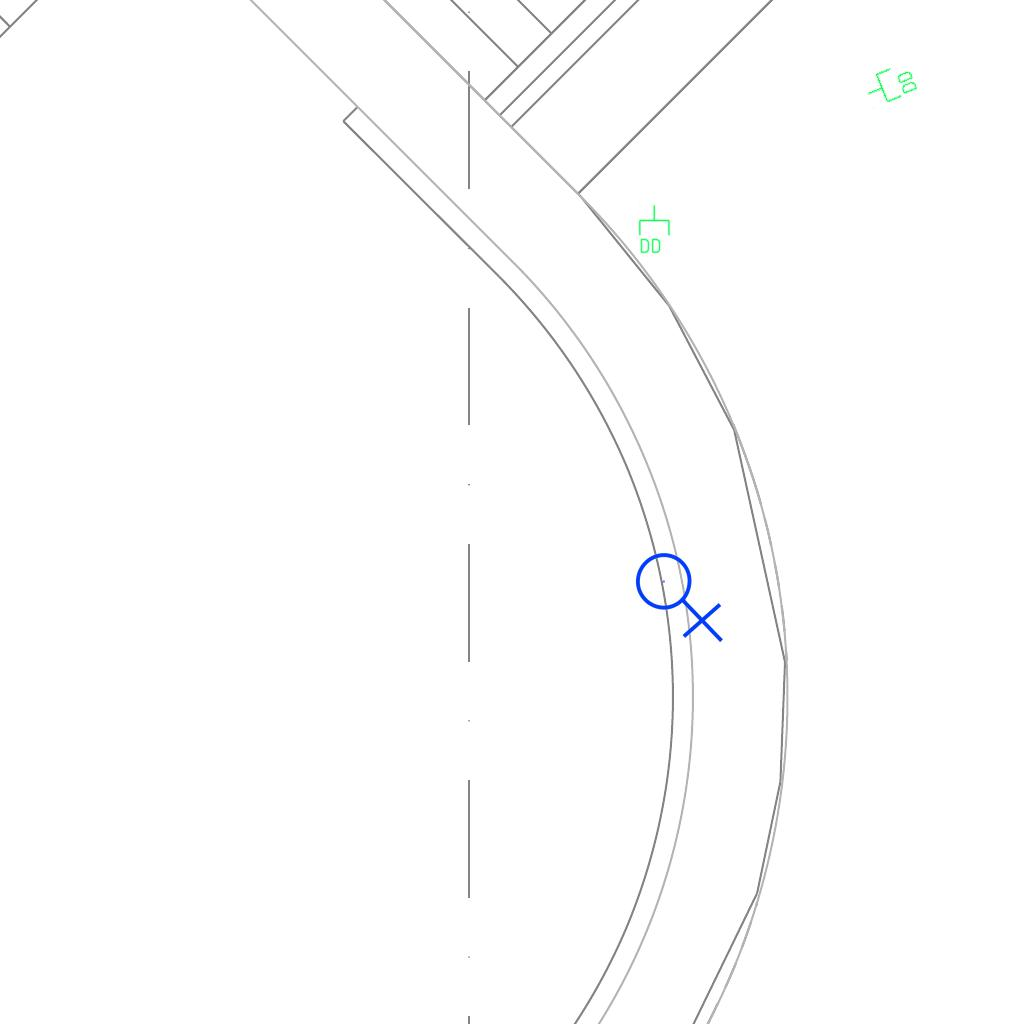Datenanschluss_zweifach: (860, 59, 921, 111), (637, 204, 671, 255)
Elektroanschluss_allgemein_230V_Geraeteanschlussdose_230V: (634, 544, 728, 643)
